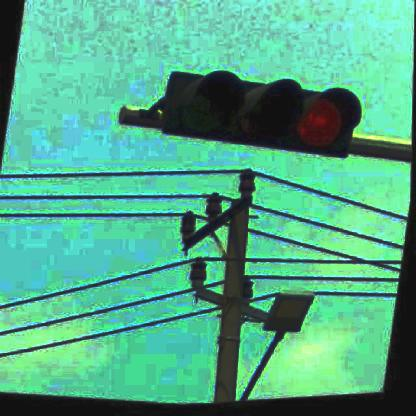Traffic Light -Red-: (156, 63, 364, 174)
